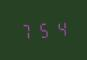five: (35, 20, 50, 39)
four: (51, 19, 66, 38)
seven: (18, 21, 33, 40)
